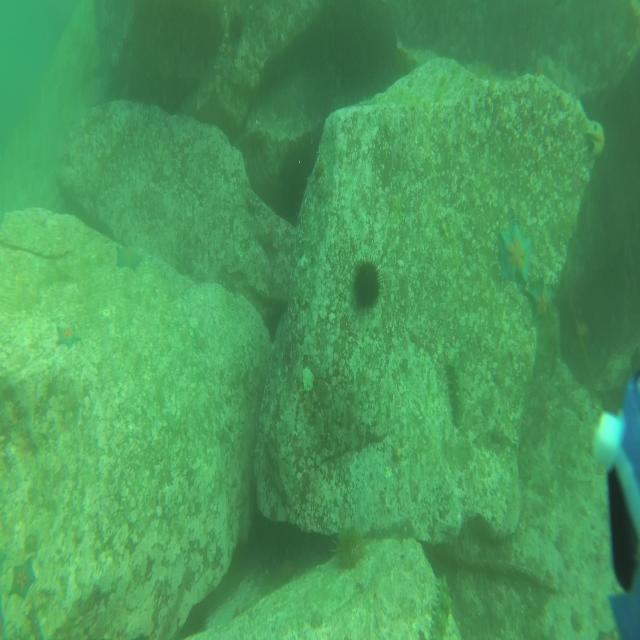echinus: (349, 250, 384, 316), (328, 518, 368, 575), (226, 5, 247, 47)
holothurian: (441, 353, 468, 431), (430, 570, 454, 640)
starfish: (500, 214, 534, 288), (527, 273, 557, 329), (9, 555, 38, 603), (114, 238, 144, 273), (586, 116, 607, 162), (56, 317, 83, 351)
